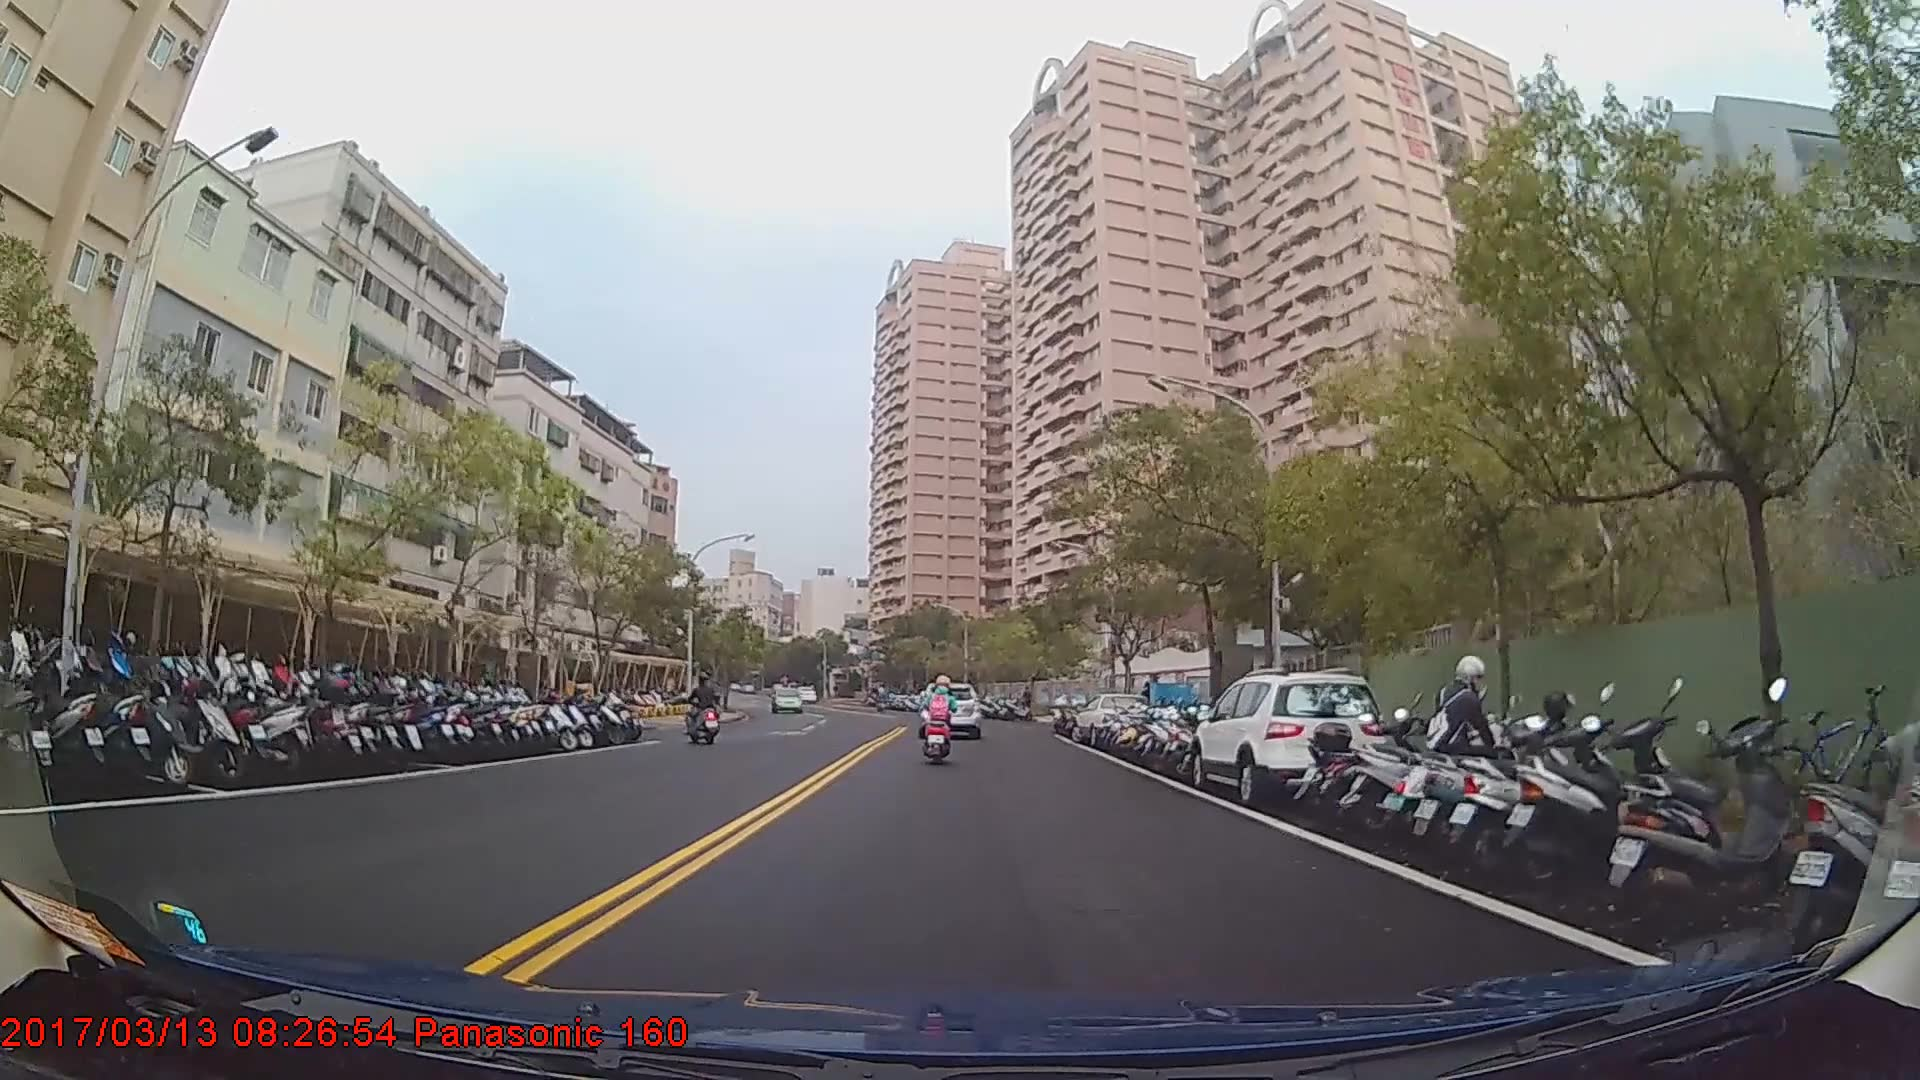rider: (919, 668, 959, 767), (685, 670, 723, 745)
vehicle: (1187, 669, 1384, 805), (1069, 690, 1154, 749), (918, 677, 979, 734), (769, 686, 805, 712)
